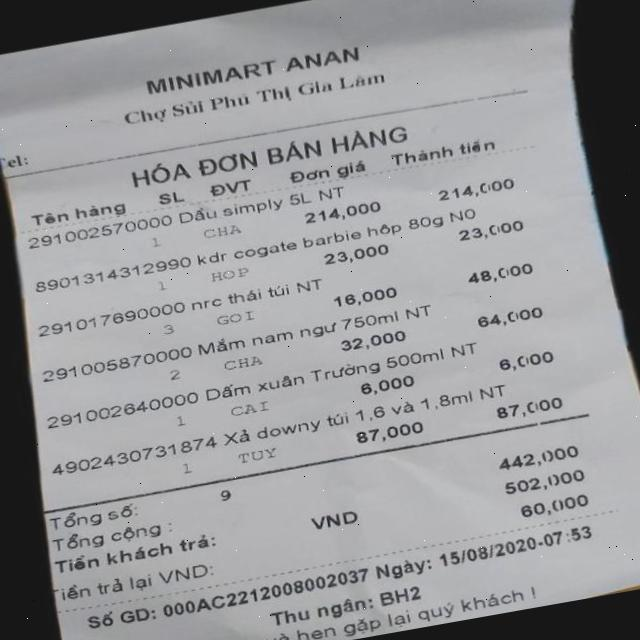Date: (429, 530, 543, 572)
Store_Name: (123, 17, 394, 105)
amount_number: (483, 440, 588, 478)
label_total: (49, 514, 178, 556)
